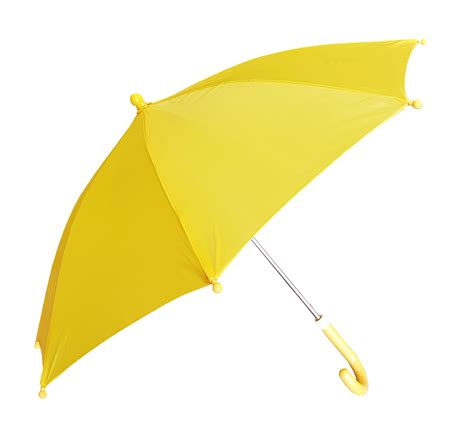???: (32, 37, 426, 400)
